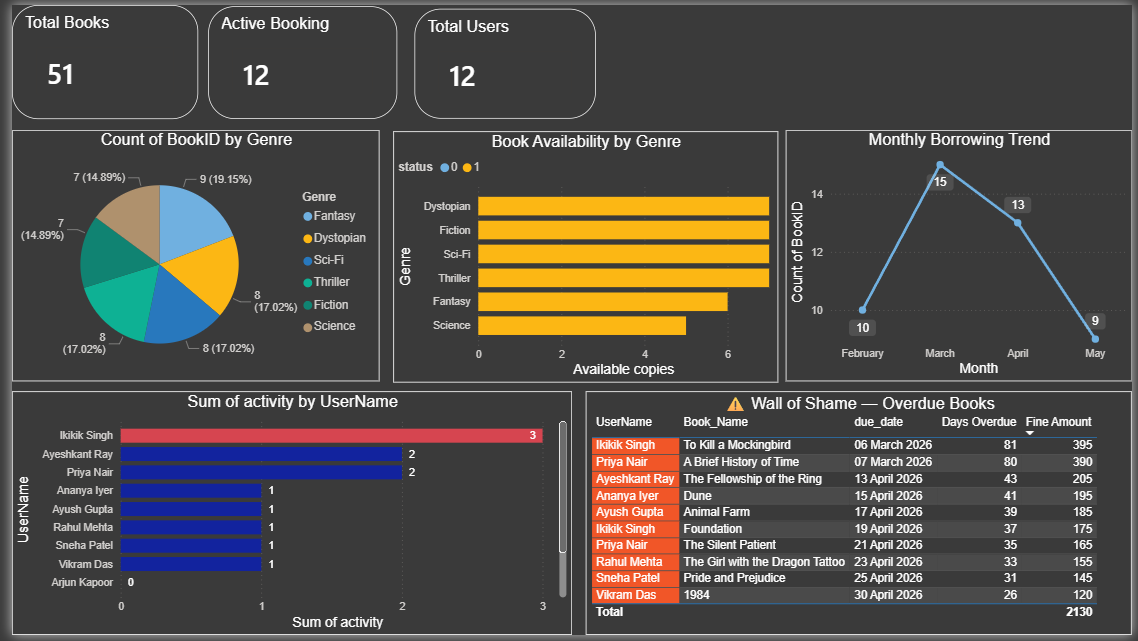

Layout of this report page (visuals, bound fields, positions):
{"tool":"powerbi","page":{"name":"Page 1","canvas":[1280,720],"ordinal":0},"visuals":[{"type":"pieChart","fields":{"Category":["projects library_books.Genre"],"Y":["CountNonNull(projects booking.BookID)"]},"box":[0,142.9,420,287.1],"z":0},{"type":"barChart","title":"Book Availability by Genre","fields":{"Category":["projects library_books.Genre"],"Y":["Sum(projects library_books.status)"],"Series":["projects library_books.status"]},"box":[435.7,144.3,440,287.1],"z":1000},{"type":"clusteredBarChart","fields":{"Category":["projects users.UserName"],"Y":["Sum(projects users.activity)"]},"box":[0,441.4,640,278.6],"z":2000},{"type":"lineChart","title":"Monthly Borrowing Trend","fields":{"Y":["CountNonNull(projects booking.BookID)"],"Category":["projects booking.borrow_date.Variation.Date Hierarchy.Year","projects booking.borrow_date.Variation.Date Hierarchy.Quarter","projects booking.borrow_date.Variation.Date Hierarchy.Month","projects booking.borrow_date.Variation.Date Hierarchy.Day"]},"box":[884.3,142.9,395.7,287.1],"z":3000},{"type":"cardVisual","title":"Total Books","fields":{"Data":["Count(projects library_books.BookID)"]},"box":[0,0,212.9,130],"z":4000,"group":"g1"},{"type":"tableEx","title":"⚠️ Wall of Shame — Overdue Books","fields":{"Values":["projects users.UserName","projects library_books.Book_Name","projects booking.due_date","projects booking.Days Overdue","Sum(projects booking.Fine Amount)"]},"box":[655.7,441.4,624.3,278.6],"z":4000},{"type":"cardVisual","title":"Total Users","fields":{"Data":["Count(projects users.UserID)"]},"box":[460,4.3,207.1,125.7],"z":5000,"group":"g1"},{"type":"cardVisual","title":"Active Booking","fields":{"Data":["CountNonNull(projects booking.BookingID)"]},"box":[224.3,1.4,215.7,128.6],"z":6000,"group":"g1"},{"type":"group","id":"g1","title":"Group 2","box":[0,0,667.1,130],"z":7002}]}

Visuals, with their boxes in screenshot pixels (x1, y1, x2, y2), scaled from the page's 1280x720 canvas onto the 1138x641 screenshot:
pieChart - projects library_books.Genre x CountNonNull(projects booking.BookID): l=0, t=127, r=373, b=383
"Book Availability by Genre" barChart: l=387, t=128, r=779, b=384
clusteredBarChart - projects users.UserName x Sum(projects users.activity): l=0, t=393, r=569, b=640
"Monthly Borrowing Trend" lineChart: l=786, t=127, r=1137, b=383
"Total Books" cardVisual: l=0, t=0, r=189, b=116
"⚠️ Wall of Shame — Overdue Books" tableEx: l=583, t=393, r=1137, b=640
"Total Users" cardVisual: l=409, t=4, r=593, b=116
"Active Booking" cardVisual: l=199, t=1, r=391, b=116
"Group 2" group: l=0, t=0, r=593, b=116
